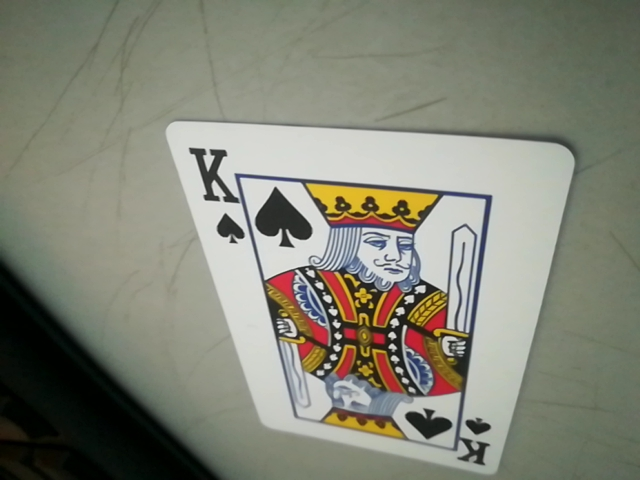ht k: (184, 135, 253, 250)
